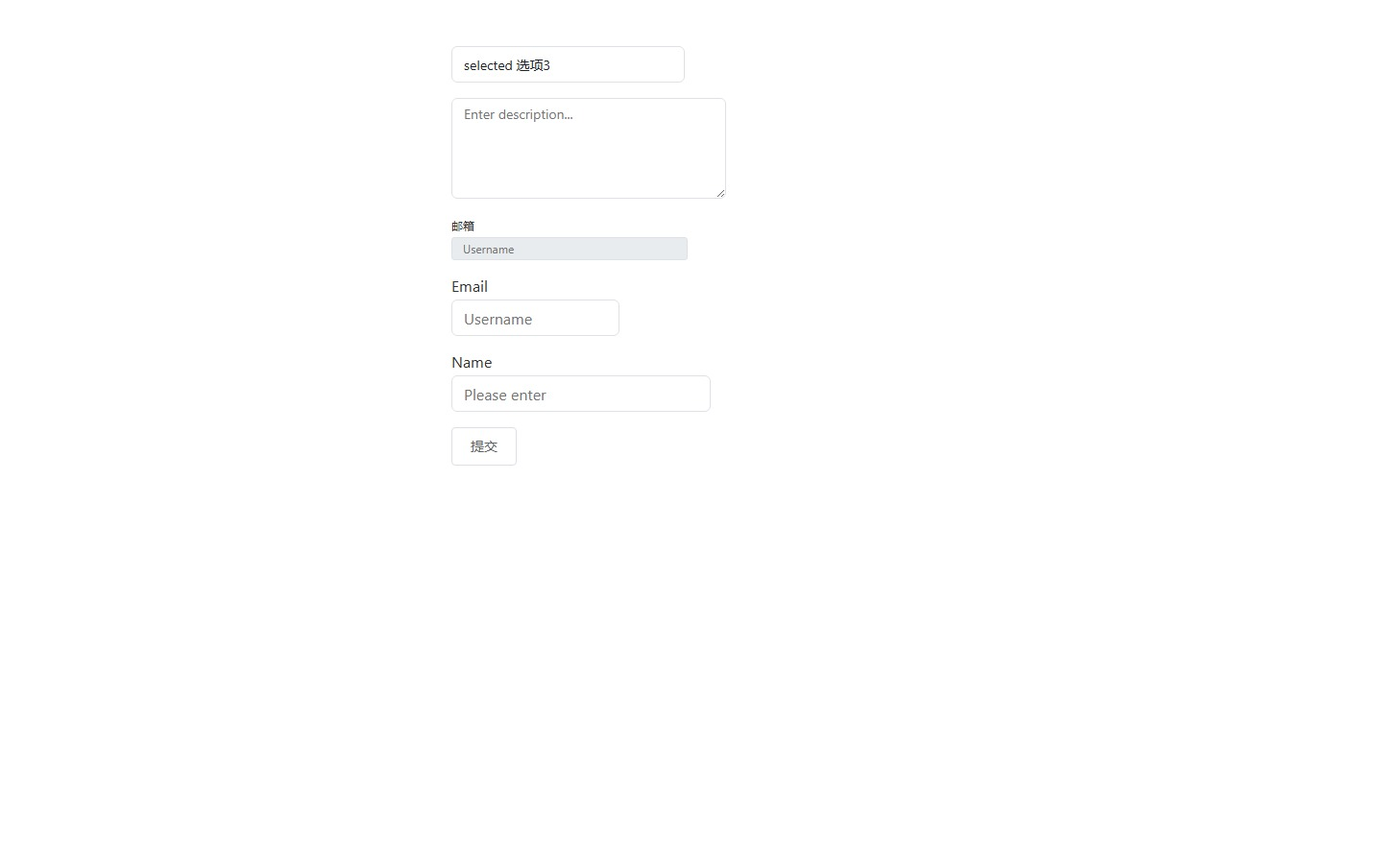button: (451, 427, 517, 466)
input: (451, 375, 711, 412), (451, 300, 619, 336), (451, 237, 688, 260)
select: (451, 46, 685, 83)
textarea: (451, 98, 726, 199)
